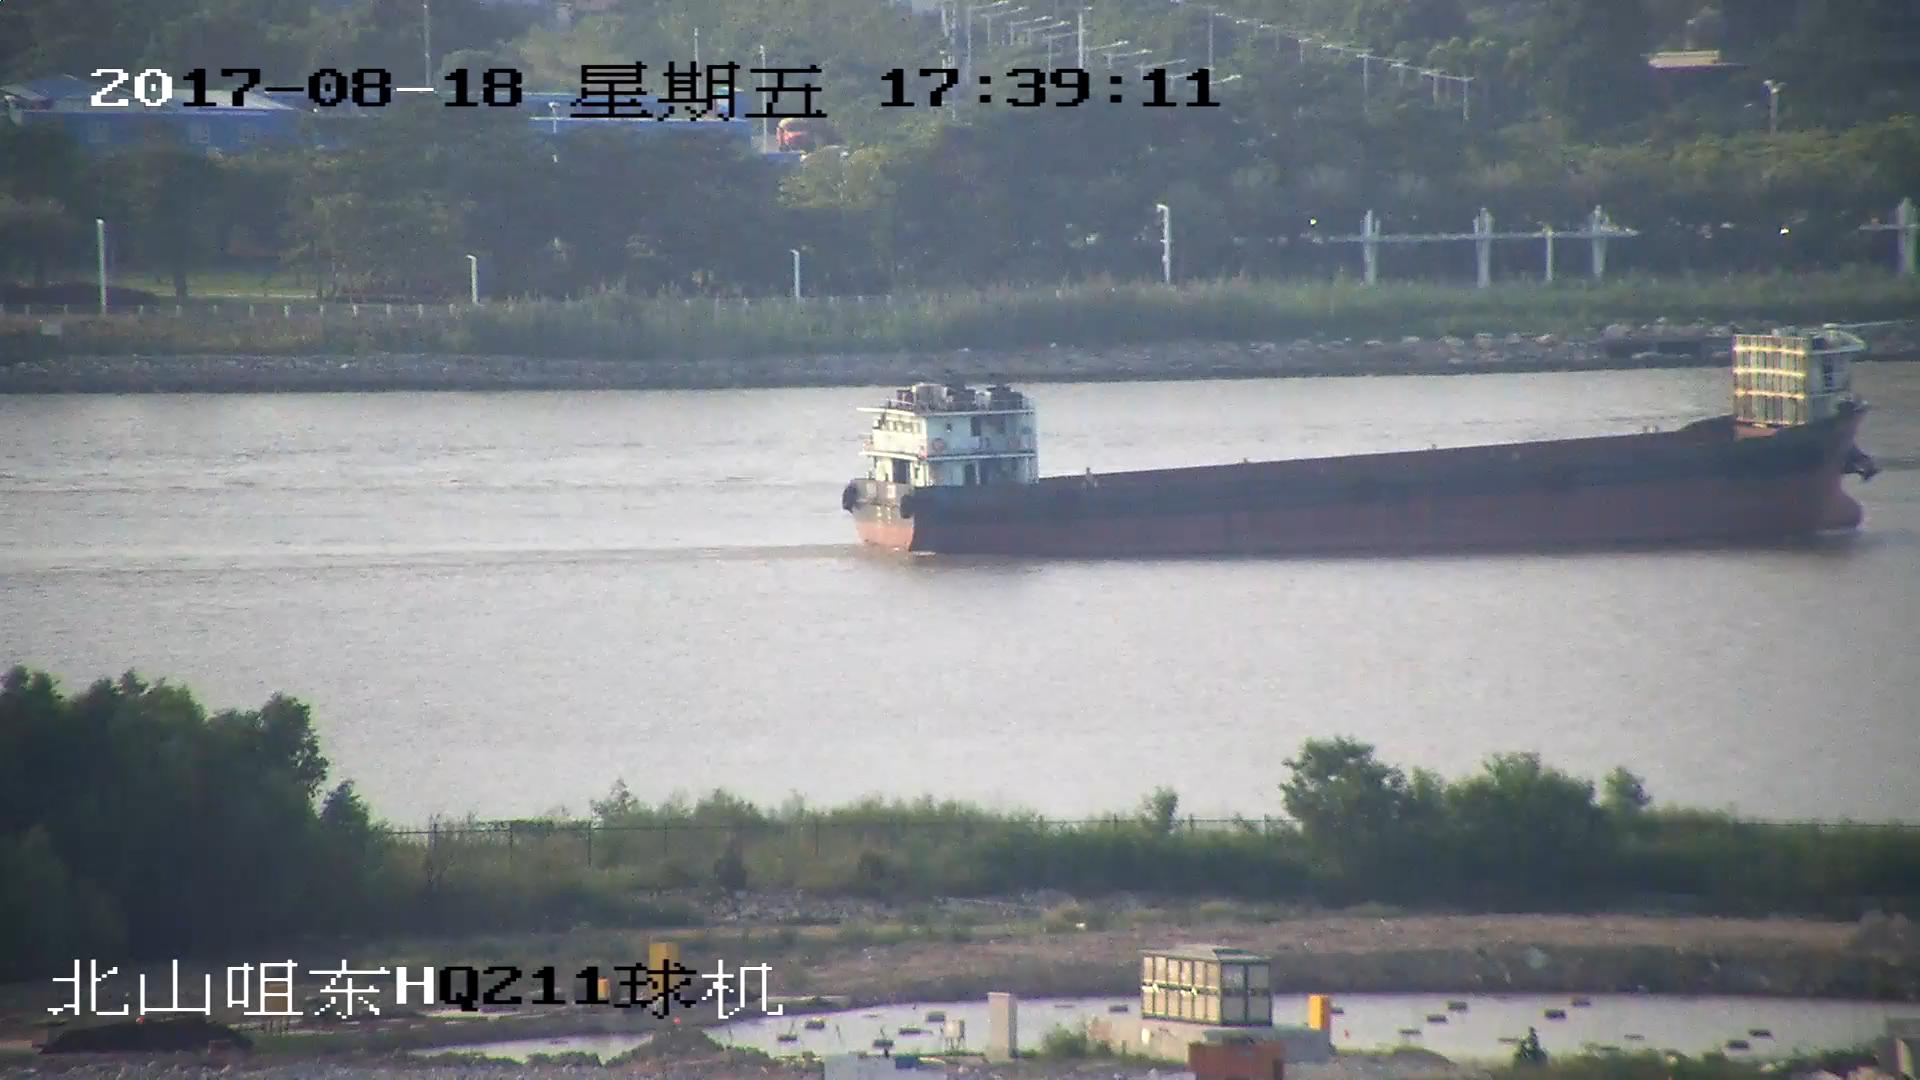general cargo ship: (837, 328, 1855, 554)
